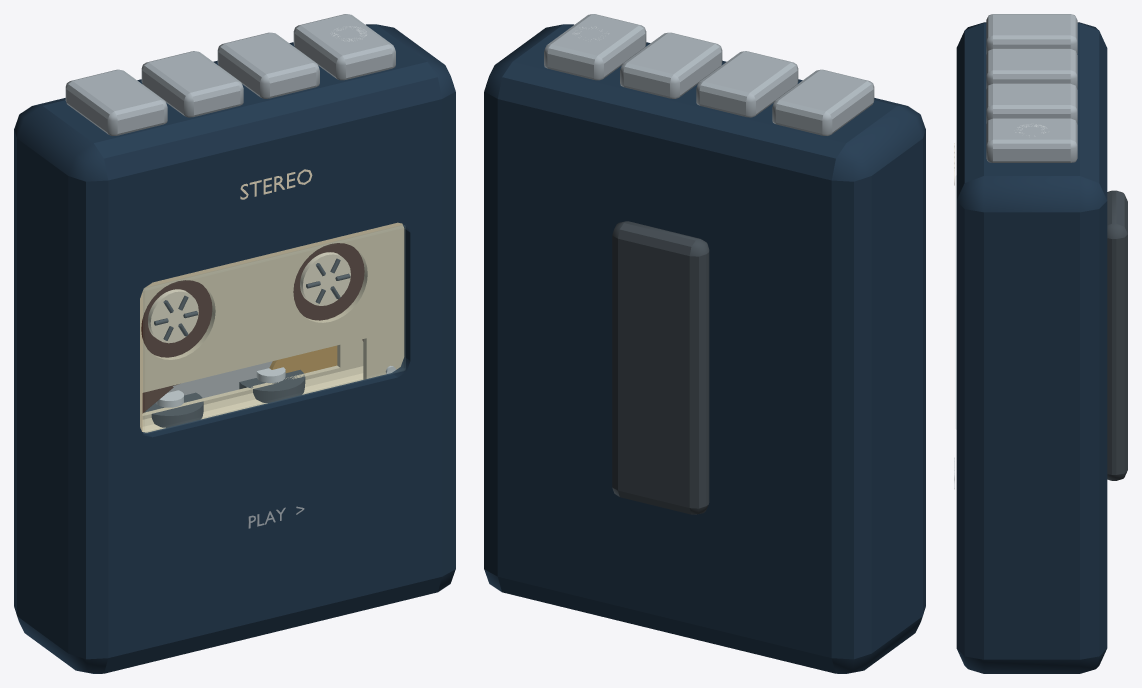
Rendered from 09_Walkman.glb.
3 views of the same model, side by side, from view 1: azimuth 30°, elevation 25°; view 2: azimuth 150°, elevation 25°; view 3: azimuth 270°, elevation 25° (orthographic). The views are drawn at different scales.
Parts seen in each view (by area): view 1: 01_outer_case_door_and_controls, 02_cassette_shell_and_label, 04_reels_tape_packs_and_tape_path, 08_circuit_board_and_batteries, 03_transport_chassis, 05_capstan_pinch_roller_and_flywheel; view 2: 01_outer_case_door_and_controls; view 3: 01_outer_case_door_and_controls.
Part boxes in pixels (x1,y1,x2,y2): 01_outer_case_door_and_controls: (14,14,455,673); 02_cassette_shell_and_label: (140,222,404,432); 04_reels_tape_packs_and_tape_path: (141,243,364,413); 08_circuit_board_and_batteries: (144,367,305,427); 03_transport_chassis: (167,361,272,398); 05_capstan_pinch_roller_and_flywheel: (269,345,337,373); 01_outer_case_door_and_controls: (484,14,925,673); 01_outer_case_door_and_controls: (954,14,1127,673).
Size of the model in its own units: 0.091 by 0.125 by 0.038.
